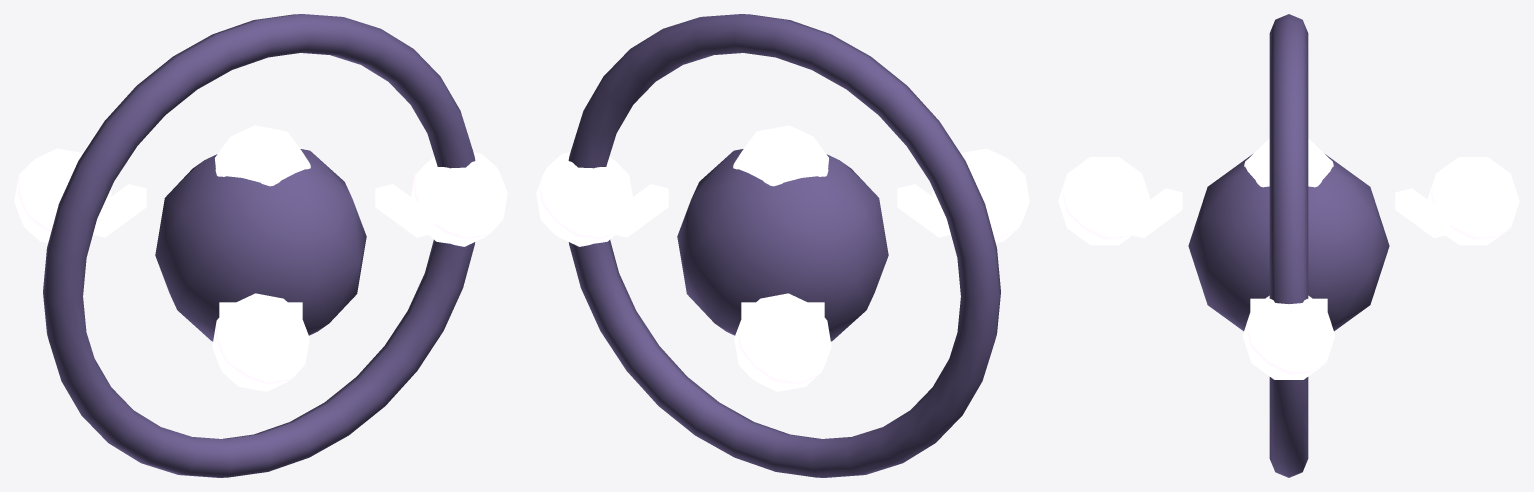
Rendered from orbiter.glb.
The picture shows the model from 3 angles, left to right: view 1: azimuth 30°, elevation 25°; view 2: azimuth 150°, elevation 25°; view 3: azimuth 270°, elevation 25°; orthographic projection. The views are drawn at different scales.
Parts seen in each view (by area): view 1: ring, core, orb.002, orb, eye, orb.001, link, link.001; view 2: ring, core, orb.001, orb, eye, orb.002, link, link.002; view 3: core, ring, orb, orb.001, orb.002, link.001, link.002, eye.
Boxes of the visible parts, left/top/right/bottom form: ring: left=43, top=14, right=475, bottom=477; core: left=155, top=149, right=366, bottom=341; orb.002: left=212, top=293, right=309, bottom=391; orb: left=411, top=152, right=507, bottom=246; eye: left=215, top=125, right=310, bottom=186; orb.001: left=14, top=148, right=111, bottom=242; link: left=375, top=184, right=434, bottom=237; link.001: left=93, top=184, right=146, bottom=237; ring: left=568, top=14, right=1000, bottom=477; core: left=677, top=149, right=888, bottom=341; orb.001: left=734, top=293, right=831, bottom=391; orb: left=536, top=152, right=632, bottom=246; eye: left=733, top=125, right=828, bottom=186; orb.002: left=932, top=148, right=1029, bottom=242; link: left=609, top=184, right=668, bottom=237; link.002: left=897, top=184, right=950, bottom=237; core: left=1188, top=154, right=1389, bottom=331; ring: left=1269, top=14, right=1308, bottom=477; orb: left=1242, top=295, right=1335, bottom=379; orb.001: left=1427, top=157, right=1519, bottom=245; orb.002: left=1058, top=157, right=1150, bottom=245; link.001: left=1395, top=188, right=1450, bottom=237; link.002: left=1127, top=188, right=1182, bottom=237; eye: left=1244, top=138, right=1333, bottom=187.
Size of the model in its own units: 1.26 by 1.2 by 1.19.
